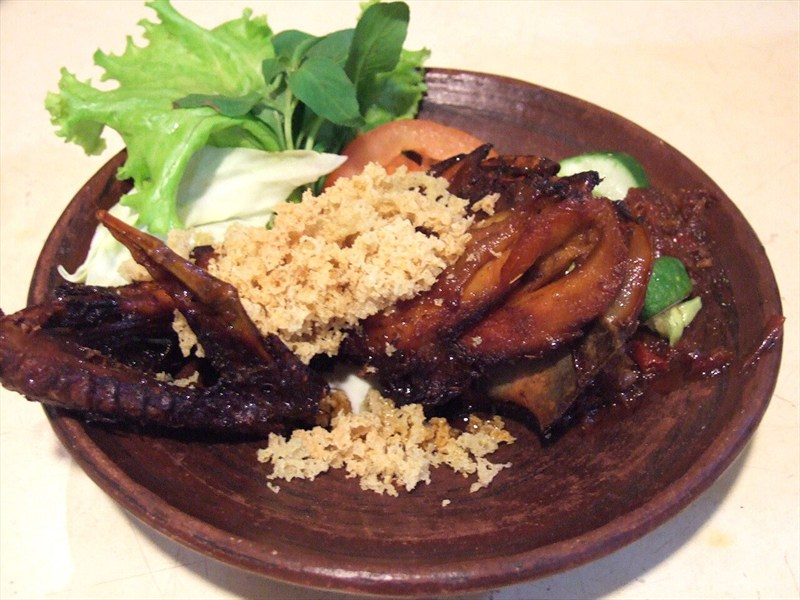Ayam Goreng: (77, 99, 683, 496)
